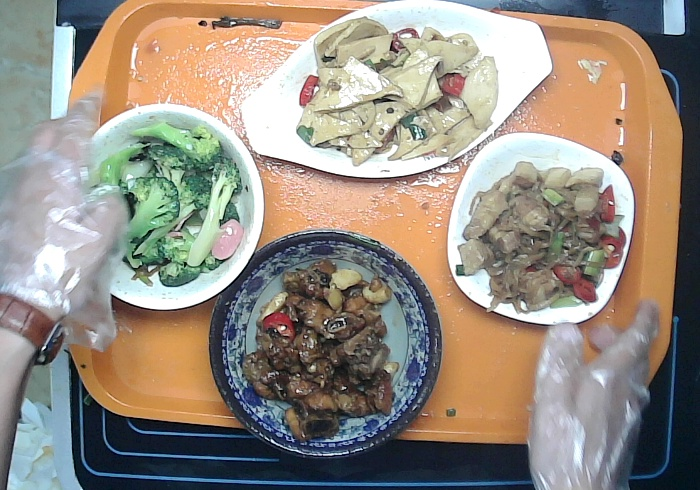ZNLD-Qing_Hua_Wan: (207, 226, 442, 461)
ZNLD-Si_Fang_Wan: (447, 133, 635, 328)
ZNLD-Tang_Wan: (97, 102, 267, 316)
ZNLD-Yu_Pan: (237, 1, 553, 182)
